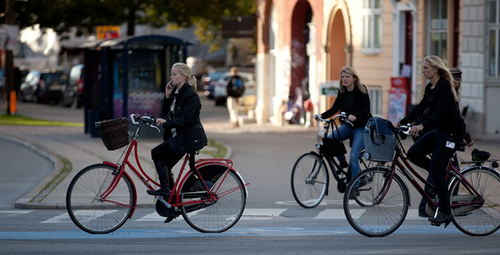bikerider: (64, 59, 252, 231), (341, 45, 500, 234), (286, 65, 392, 201)
